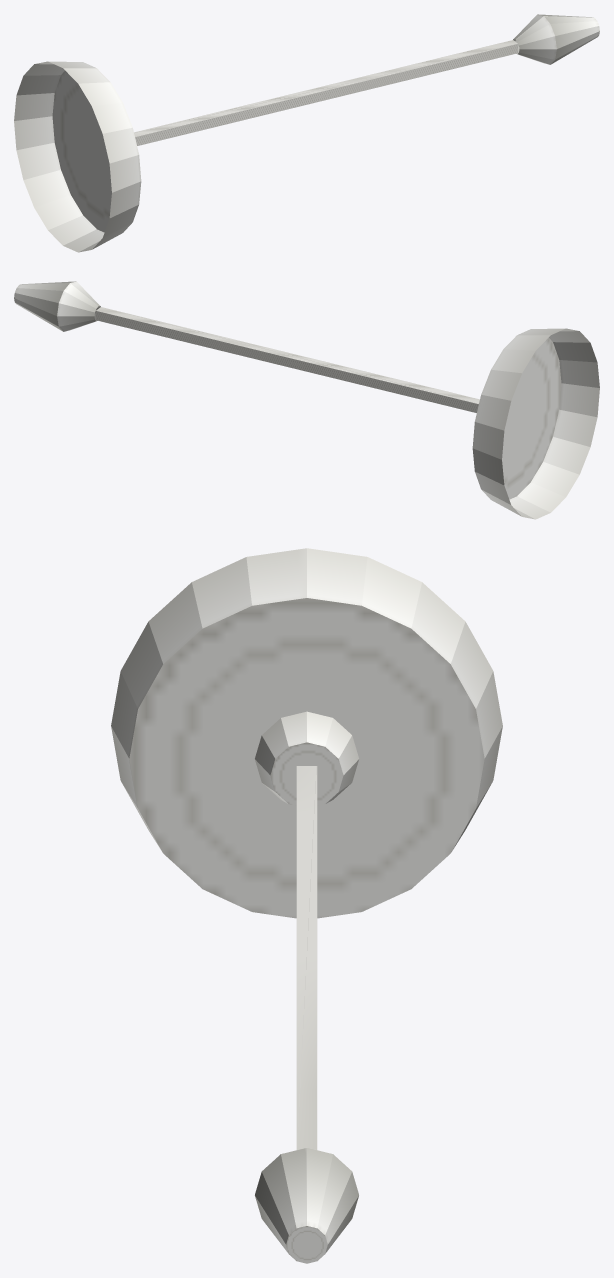
Rendered from ukpullcord.obj.
3 renders of one model, top to bottom at view 1: azimuth 30°, elevation 25°; view 2: azimuth 150°, elevation 25°; view 3: azimuth 270°, elevation 25°, orthographic. The views are drawn at different scales.
Parts seen in each view (by area): view 1: main, button; view 2: main, button; view 3: main, button.
Boxes of the visible parts, box(x1,y1,x2,y2) form: main: box(14, 61, 141, 252); button: box(134, 14, 599, 145); main: box(472, 328, 599, 519); button: box(14, 281, 479, 412); main: box(111, 548, 502, 918); button: box(255, 766, 358, 1263).
Size of the model in its own units: 0.47 by 0.15 by 0.15.
1 material, 1 textured.
